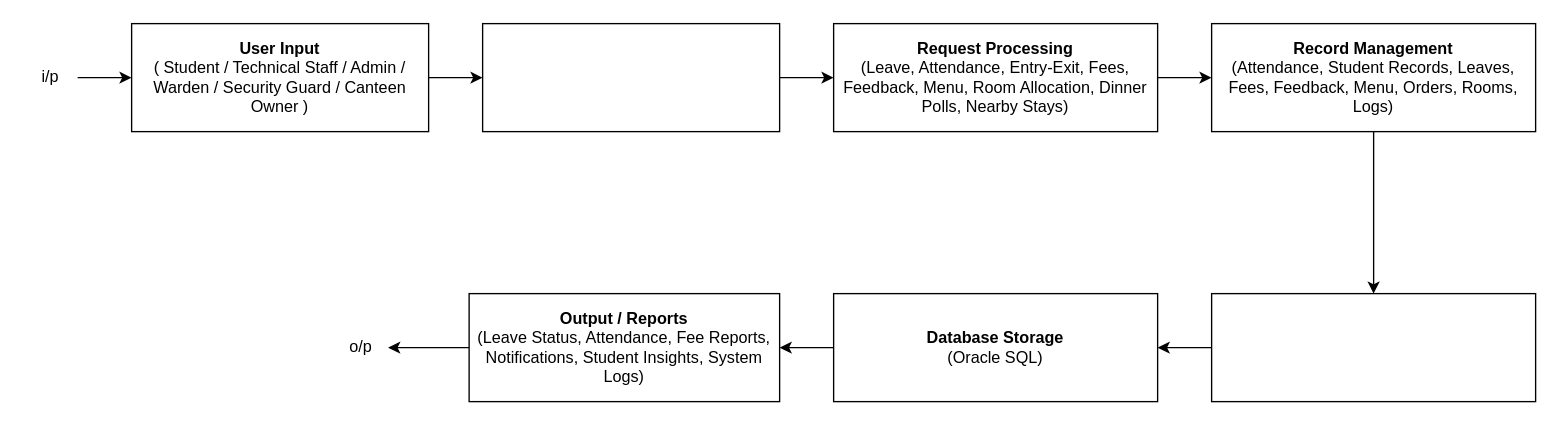
The diagram is 1559 pixels wide and 425 high, and some of its shapes have lost their labels. The box of each missing label's shape, as (x1, y1, x2, y2) in pixels:
Approval & Validation (Admin / Warden / Security Checks / Tech Staff): (1210, 292, 1536, 402)
Authentication & Authorization (Login, Role Verification & Account Management): (481, 22, 780, 132)
